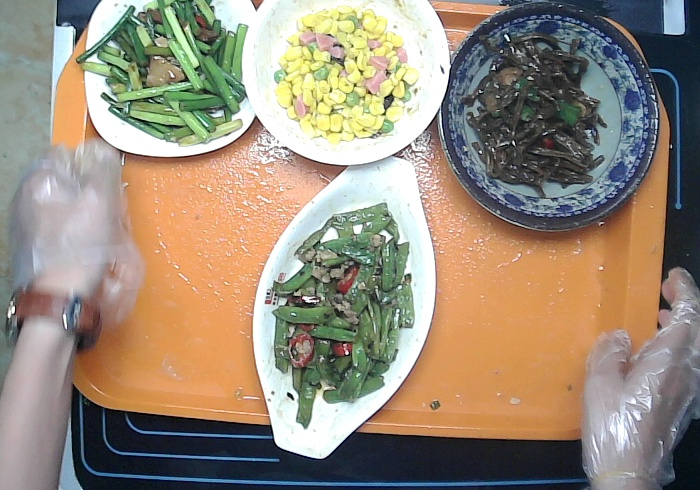ZNLD-Qing_Hua_Wan: (437, 7, 663, 233)
ZNLD-Si_Fang_Wan: (82, 1, 256, 159)
ZNLD-Tang_Wan: (237, 2, 446, 170)
ZNLD-Yu_Pan: (251, 154, 439, 456)
